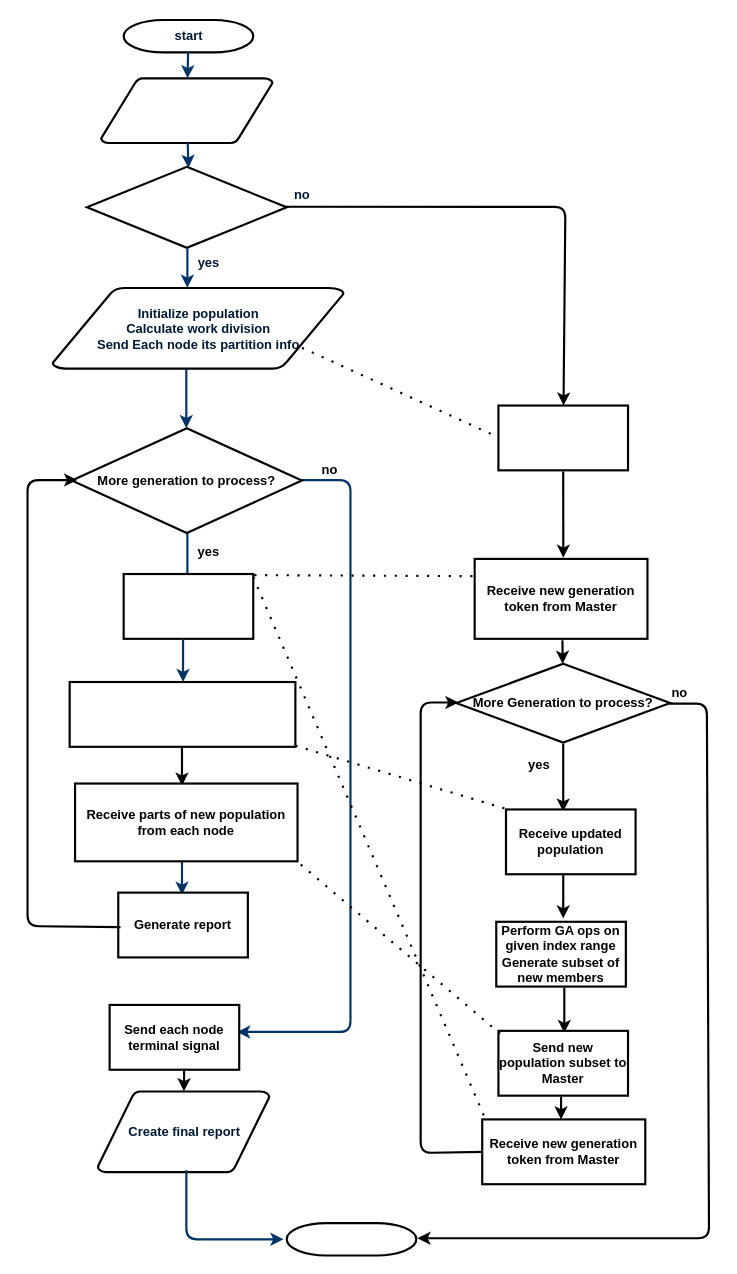
The diagram is 737 pixels wide and 1274 high, and some of its shapes have lost their labels. Here are the shapes that lost their labels. From the top down, the centre of each, then its label:
the point at 186,110: Initialize MPI environment
the point at 186,206: mpi_rank == master
the point at 563,437: Receive partition info from Master
the point at 188,605: Send each node new generation token
the point at 182,713: Update each node with Global population
the point at 351,1238: end
